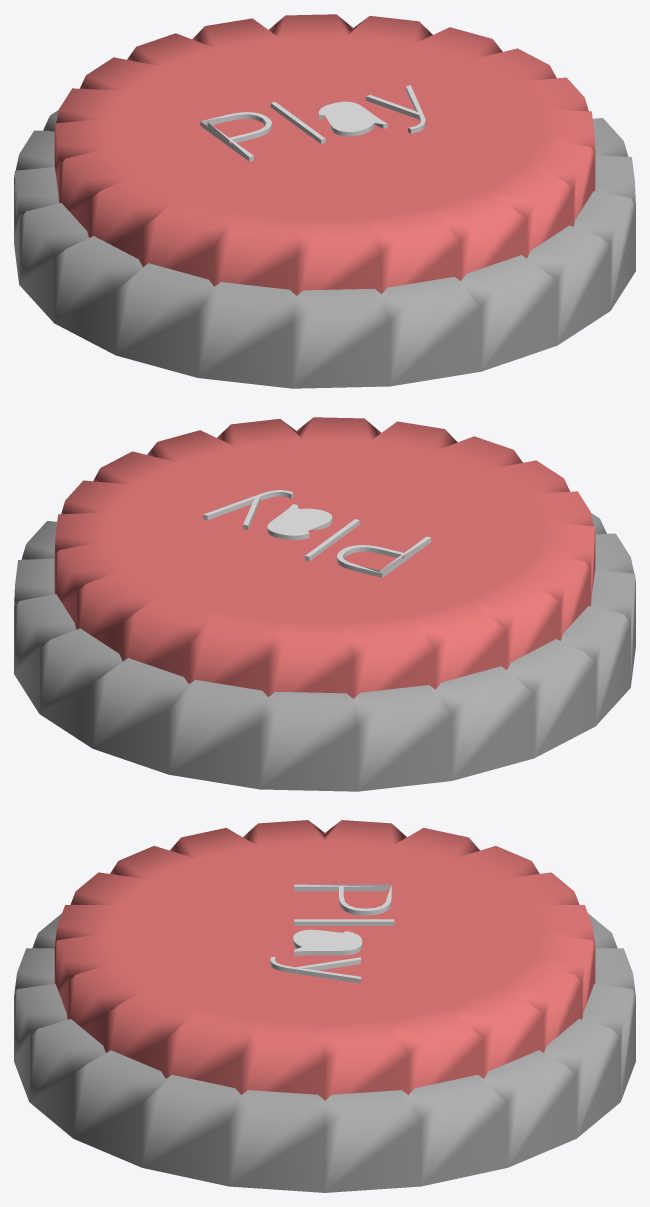
Rendered from PLayButtonV1.fbx.
3 renders of one model, top to bottom at view 1: azimuth 30°, elevation 25°; view 2: azimuth 150°, elevation 25°; view 3: azimuth 270°, elevation 25°, orthographic.
Parts seen in each view (by area): view 1: pCylinder2, pCylinder1, typeMesh1; view 2: pCylinder2, pCylinder1, typeMesh1; view 3: pCylinder2, pCylinder1, typeMesh1.
Boxes of the visible parts, x1,y1,x2,y2 form: pCylinder2: (54,14,595,295); pCylinder1: (14,110,635,388); typeMesh1: (200,85,425,161); pCylinder2: (54,417,595,698); pCylinder1: (14,513,635,791); typeMesh1: (203,490,431,577); pCylinder2: (54,820,595,1100); pCylinder1: (14,913,635,1192); typeMesh1: (270,884,394,983).
Bounding box in the file's own units: 2.92 × 0.6875 × 2.92.
